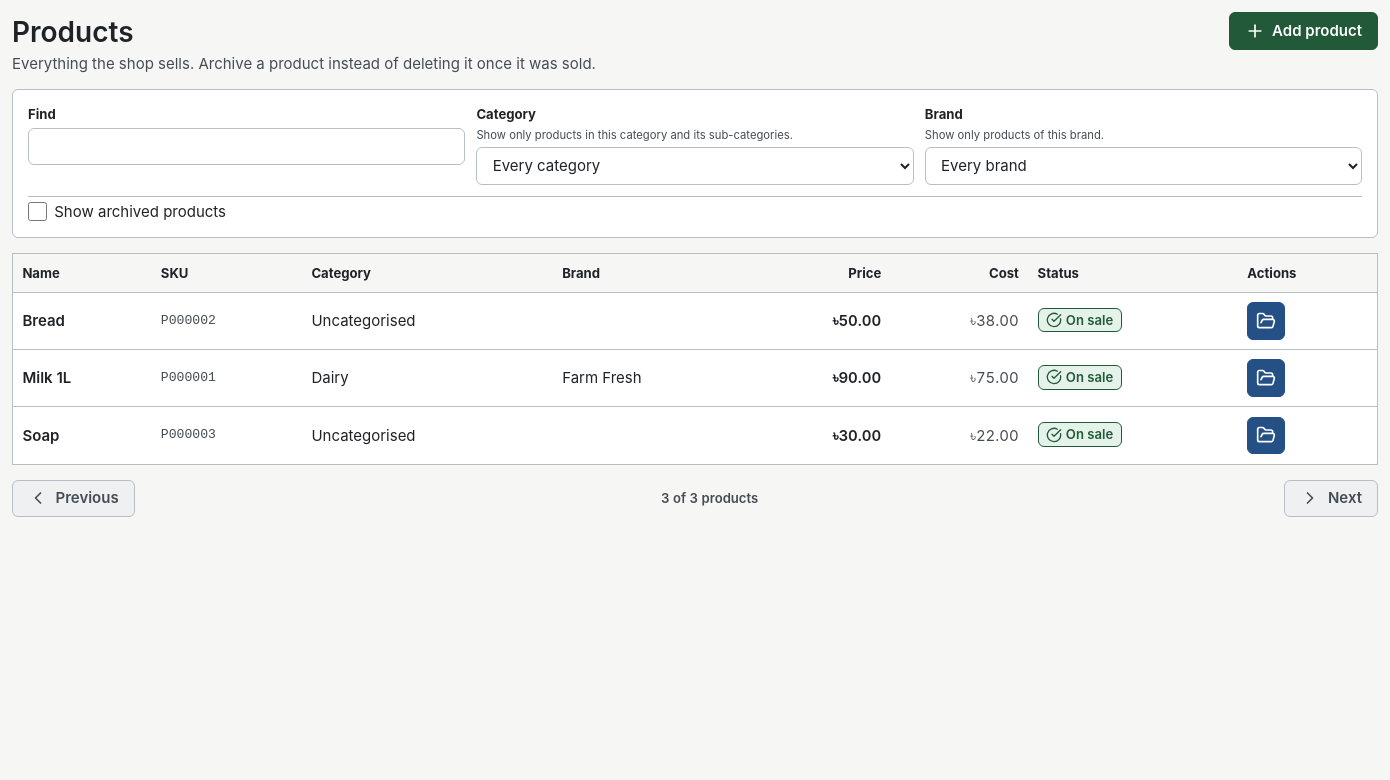
ProductsPage (fake bridge) › cat_11: makes a shop barcode for a saved product
This screenshot has width=1390, height=780.
Click the button named "Open this product to change it. Bread": (1266, 321) [1247,302,1285,340]
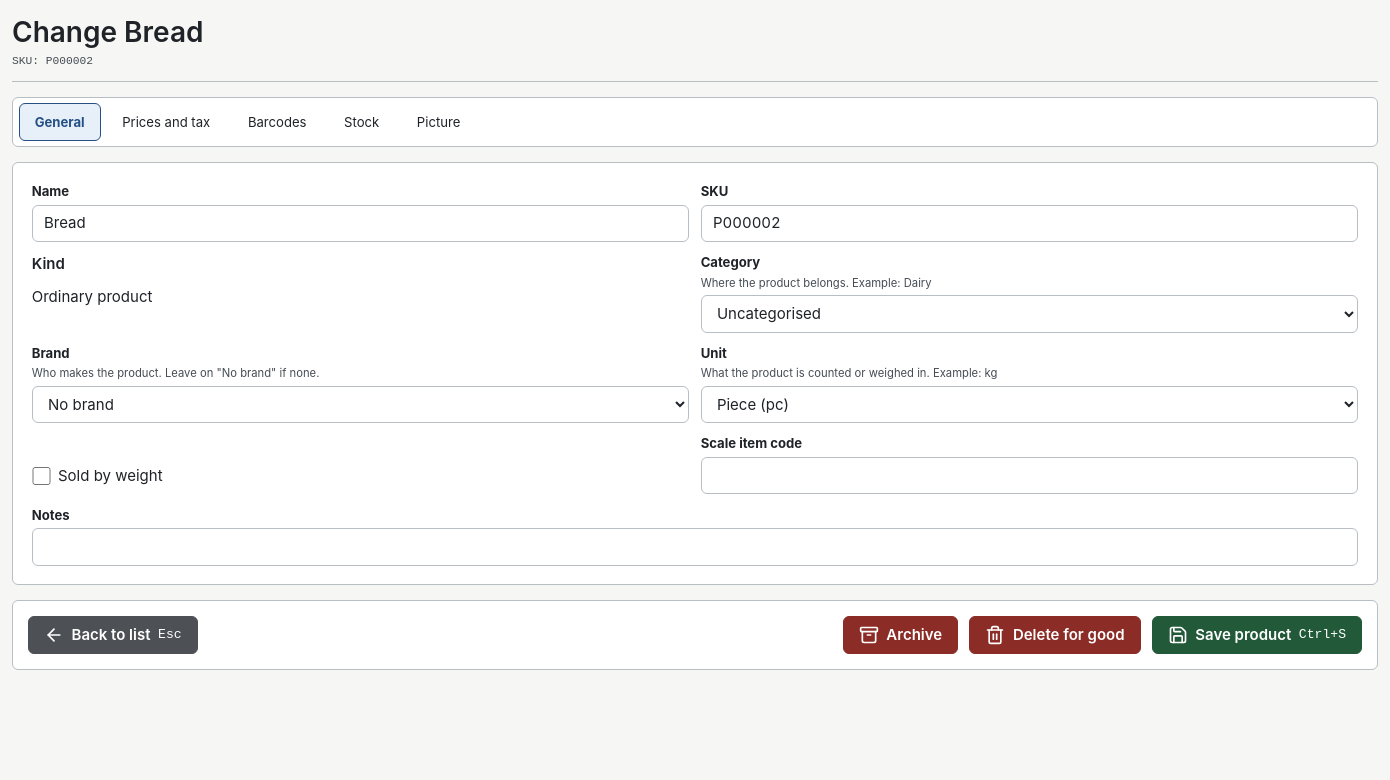
Click the tab "Barcodes": (277, 122) [232,103,322,141]
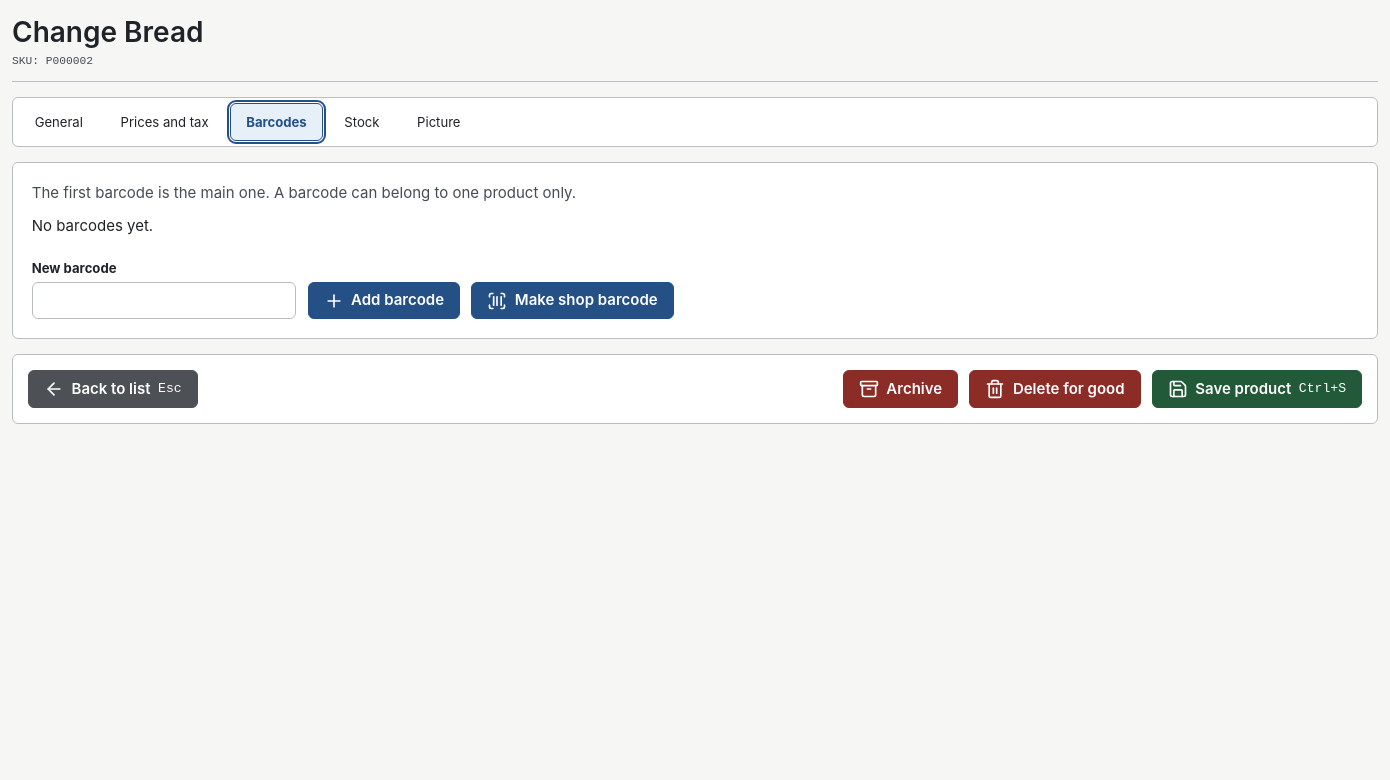
Click the button "Make shop barcode": (572, 301) [471,282,674,320]
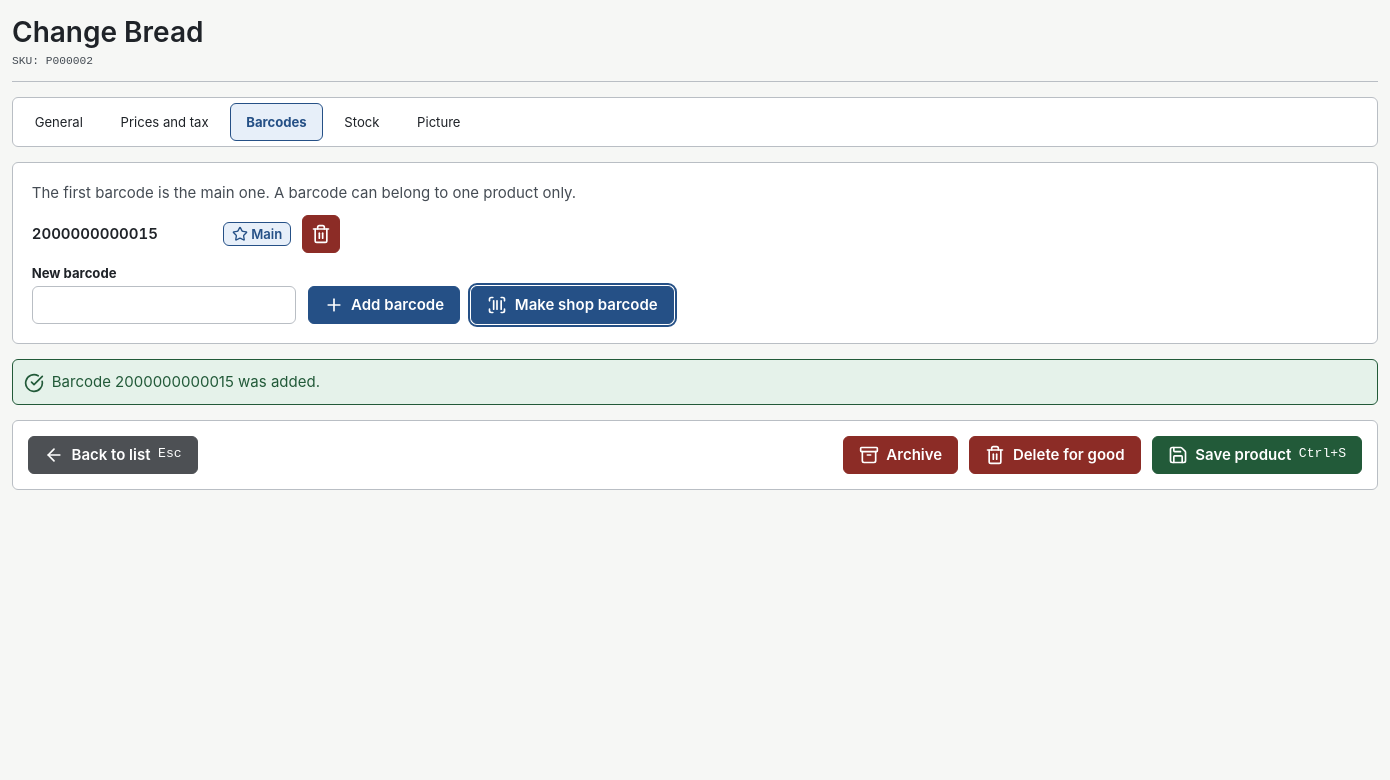
Expected: the text "Barcode 2000000000015 was added." is shown, [52,371,320,393]
Expected: the text "2000000000015" is shown, [32,224,158,243]
